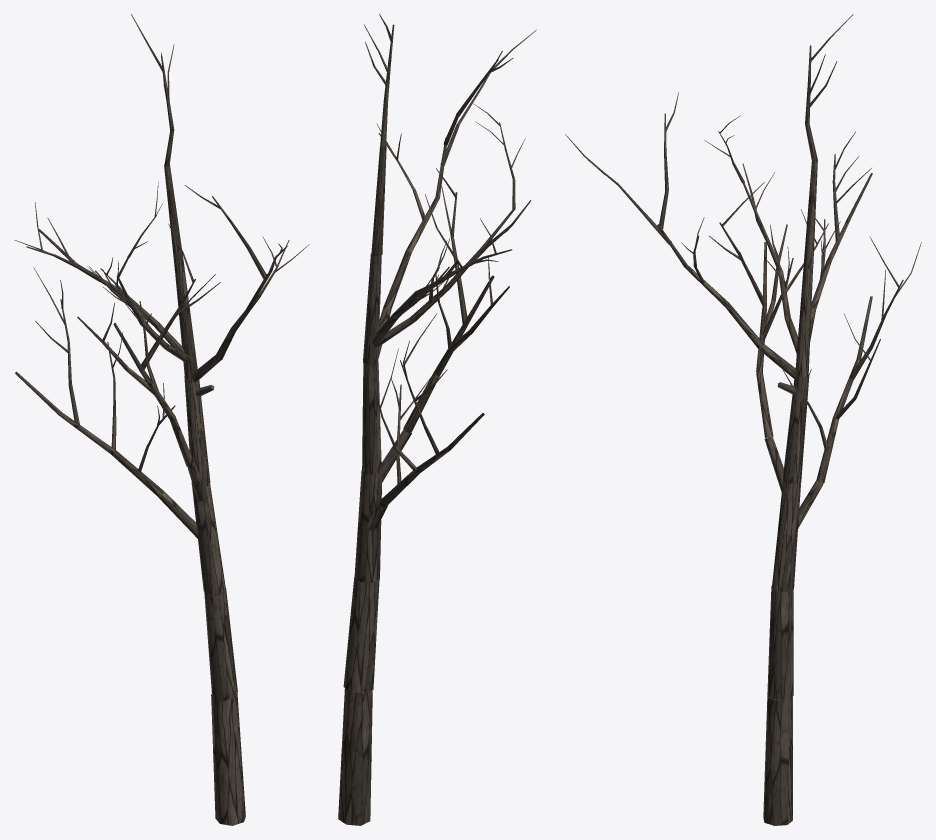
The model's file is S7U_Tree_Full_B.fbx.
3 views of the same model, side by side, from view 1: azimuth 30°, elevation 25°; view 2: azimuth 150°, elevation 25°; view 3: azimuth 270°, elevation 25° (orthographic). The views are drawn at different scales.
Parts seen in each view (by area): view 1: S7U_Tree_Full_B; view 2: S7U_Tree_Full_B; view 3: S7U_Tree_Full_B.
Boxes of the visible parts, x1,y1,x2,y2 form: S7U_Tree_Full_B: [14, 14, 309, 825]; S7U_Tree_Full_B: [338, 14, 536, 825]; S7U_Tree_Full_B: [565, 14, 921, 825].
Size of the model in its own units: 3.38 by 12.48 by 5.19.
